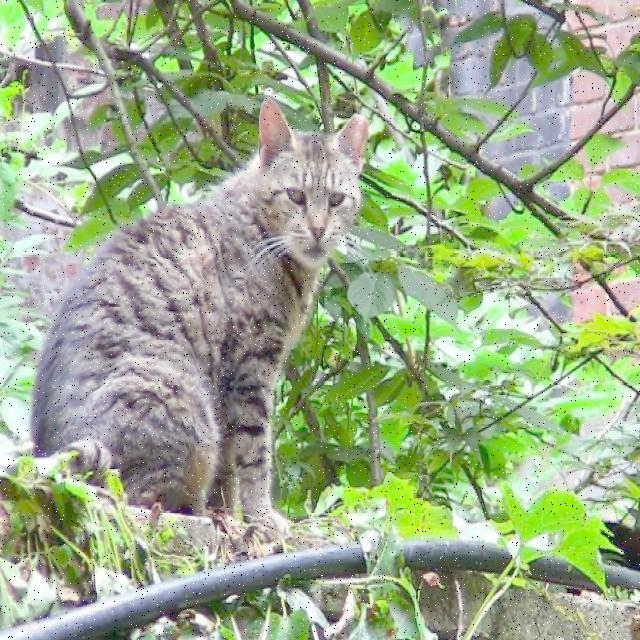cat: (31, 98, 368, 528)
